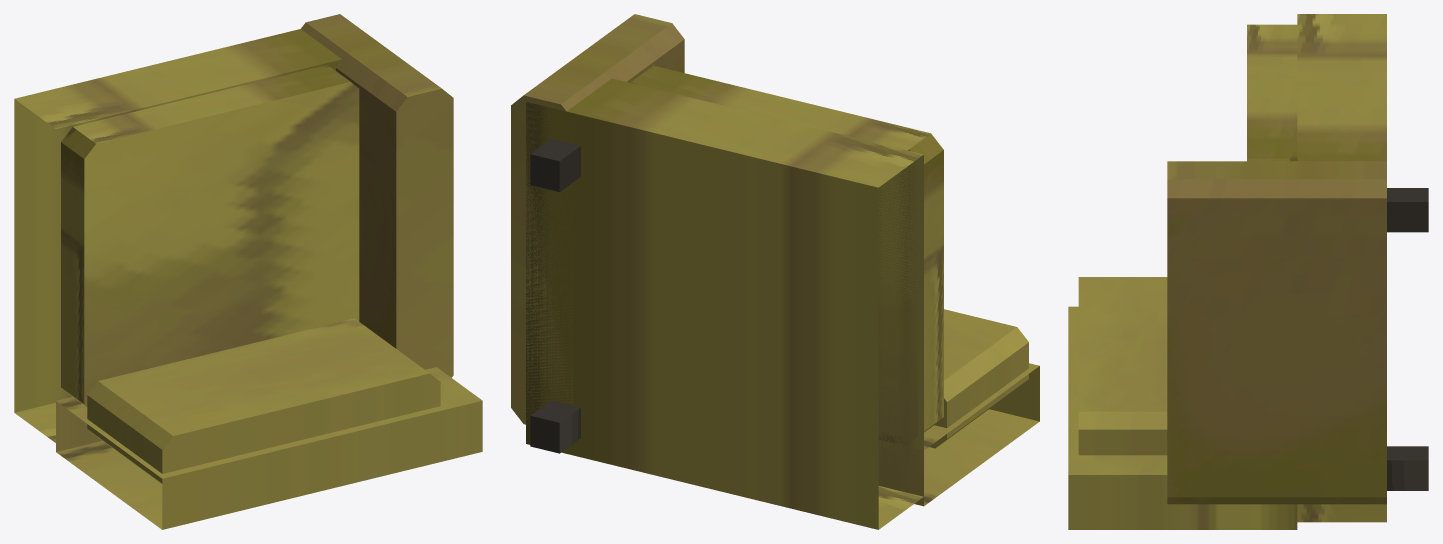
File: pz_sofa_seating_indoor_03_yellow_modern_1_0.obj
3 renders of one model, left to right at view 1: azimuth 30°, elevation 25°; view 2: azimuth 150°, elevation 25°; view 3: azimuth 270°, elevation 25°, orthographic. The views are drawn at different scales.
Bounding box in the file's own units: 1 × 0.93 × 0.86.
1 material, 1 textured.
